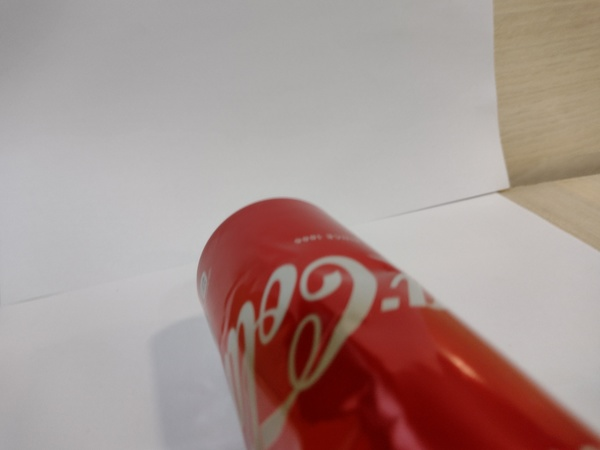can: (189, 193, 598, 444)
